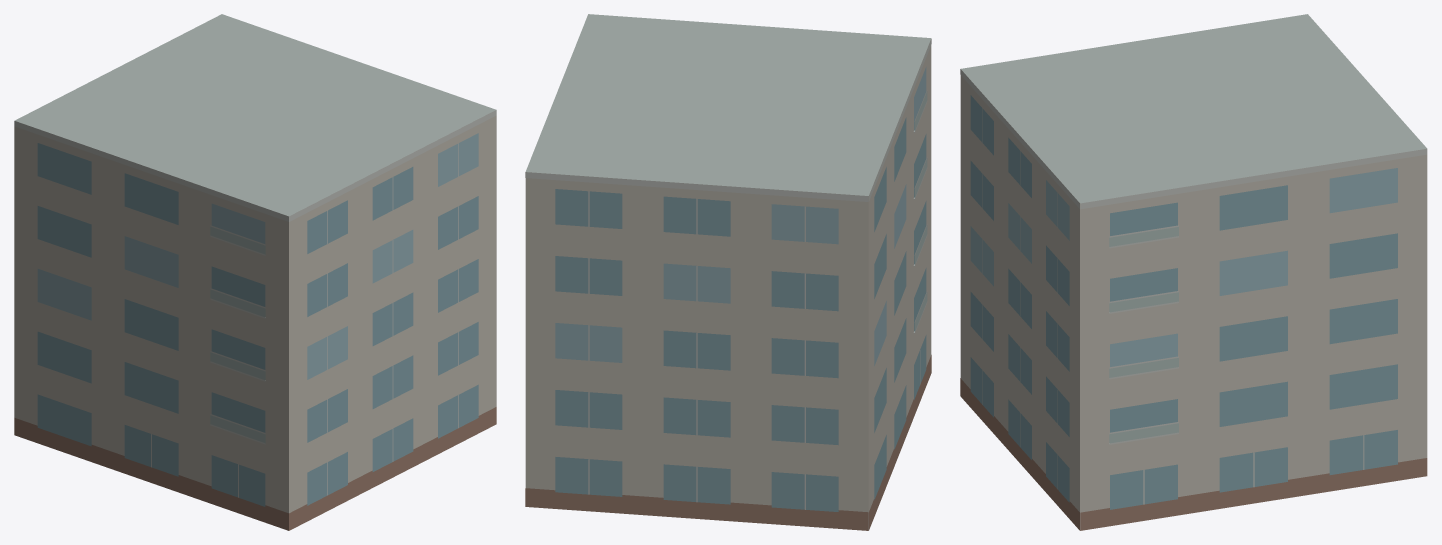
File: survey-upis-32863628.glb
The picture shows the model from 3 angles, left to right: view 1: azimuth 30°, elevation 25°; view 2: azimuth 150°, elevation 25°; view 3: azimuth 270°, elevation 25°; orthographic projection. The views are drawn at different scales.
Visible parts, largest first — view 1: survey-upis-32863628.tmp; view 2: survey-upis-32863628.tmp; view 3: survey-upis-32863628.tmp.
Boxes of the visible parts, x1,y1,x2,y2 form: survey-upis-32863628.tmp: (14, 14, 496, 530); survey-upis-32863628.tmp: (525, 14, 931, 530); survey-upis-32863628.tmp: (960, 14, 1427, 530).
Size of the model in its own units: 16.82 by 13.55 by 17.52.
